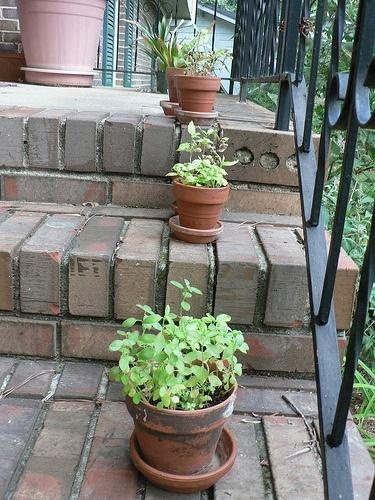pottedplant: (110, 278, 250, 493), (120, 19, 216, 116), (169, 121, 240, 243), (18, 1, 106, 88), (176, 48, 234, 125), (1, 40, 25, 84)
